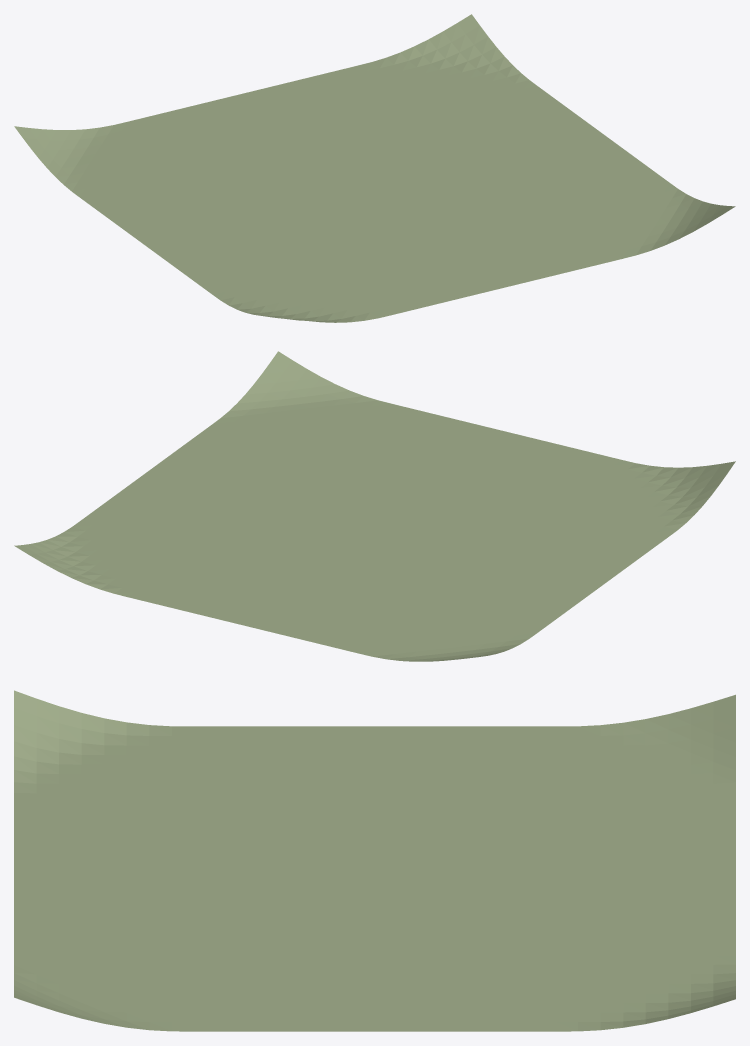
File: gardens-1-1.glb
3 renders of one model, top to bottom at view 1: azimuth 30°, elevation 25°; view 2: azimuth 150°, elevation 25°; view 3: azimuth 270°, elevation 25°, orthographic. The views are drawn at different scales.
Parts seen in each view (by area): view 1: gardens-1-1; view 2: gardens-1-1; view 3: gardens-1-1.
Part boxes in pixels (<box>): gardens-1-1: <box>14,14,735,322</box>; gardens-1-1: <box>14,351,735,661</box>; gardens-1-1: <box>14,690,735,1031</box>.
Bounding box in the file's own units: 256 × 14.11 × 256.
